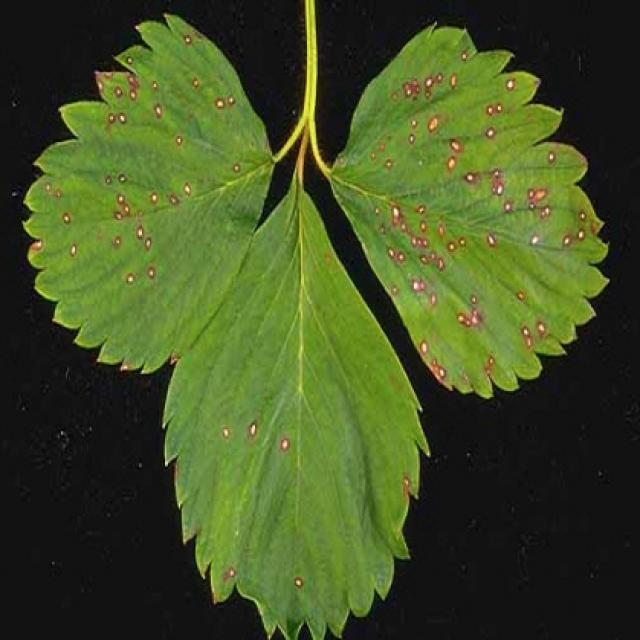Leaf Spot: (161, 166, 432, 638), (329, 20, 613, 400), (20, 13, 276, 374)
